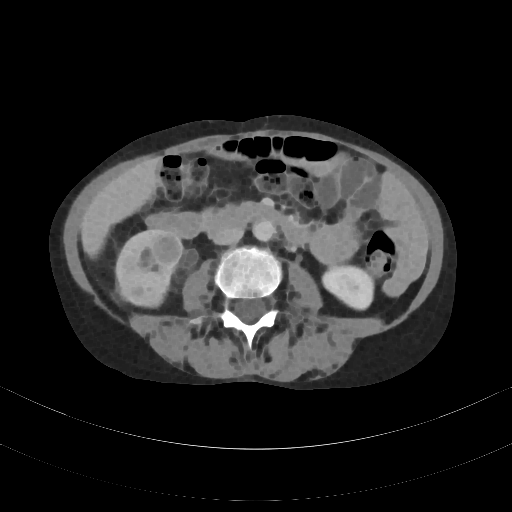Lesion: (149, 232, 183, 266)
